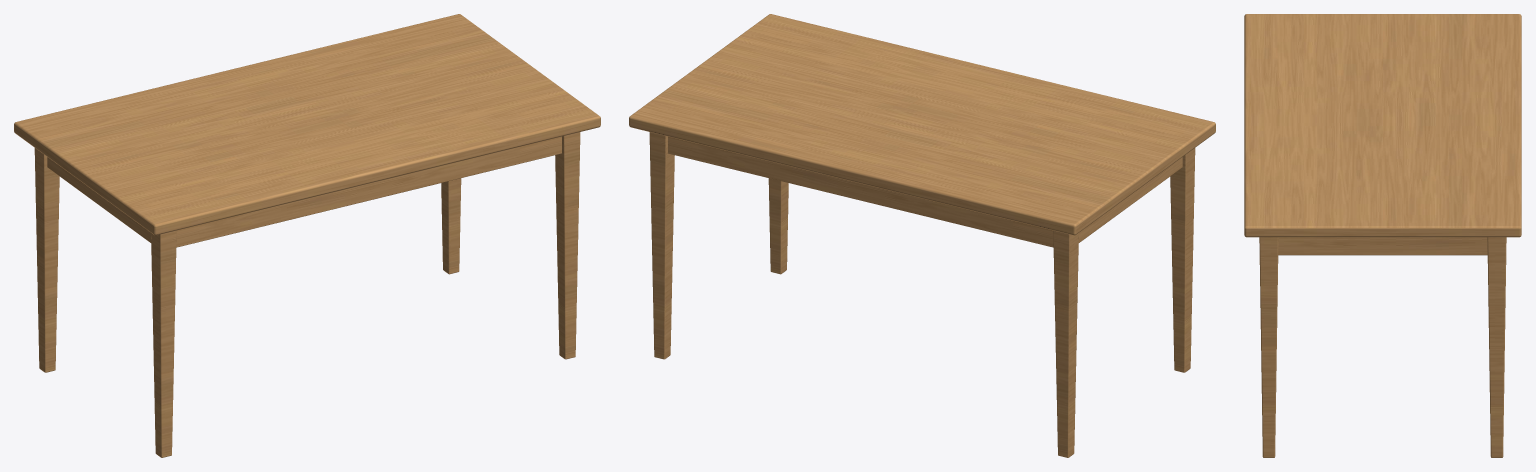
File: dining_table.glb
3 views of the same model, side by side, from view 1: azimuth 30°, elevation 25°; view 2: azimuth 150°, elevation 25°; view 3: azimuth 270°, elevation 25° (orthographic). The views are drawn at different scales.
Parts seen in each view (by area): view 1: dining_table_top, dining_table_legs, dining_table_apron; view 2: dining_table_top, dining_table_legs, dining_table_apron; view 3: dining_table_top, dining_table_legs, dining_table_apron.
Part boxes in pixels (x1,y1,x2,y2): dining_table_top: (14,14,600,235); dining_table_legs: (34,132,580,457); dining_table_apron: (47,136,561,247); dining_table_top: (629,14,1215,235); dining_table_legs: (649,132,1195,457); dining_table_apron: (668,136,1182,247); dining_table_top: (1244,14,1521,237); dining_table_legs: (1259,237,1506,457); dining_table_apron: (1278,237,1487,255).
Bounding box in the file's own units: 1.44 × 0.75 × 0.788.
Materials: 1 (1 with a texture image).
